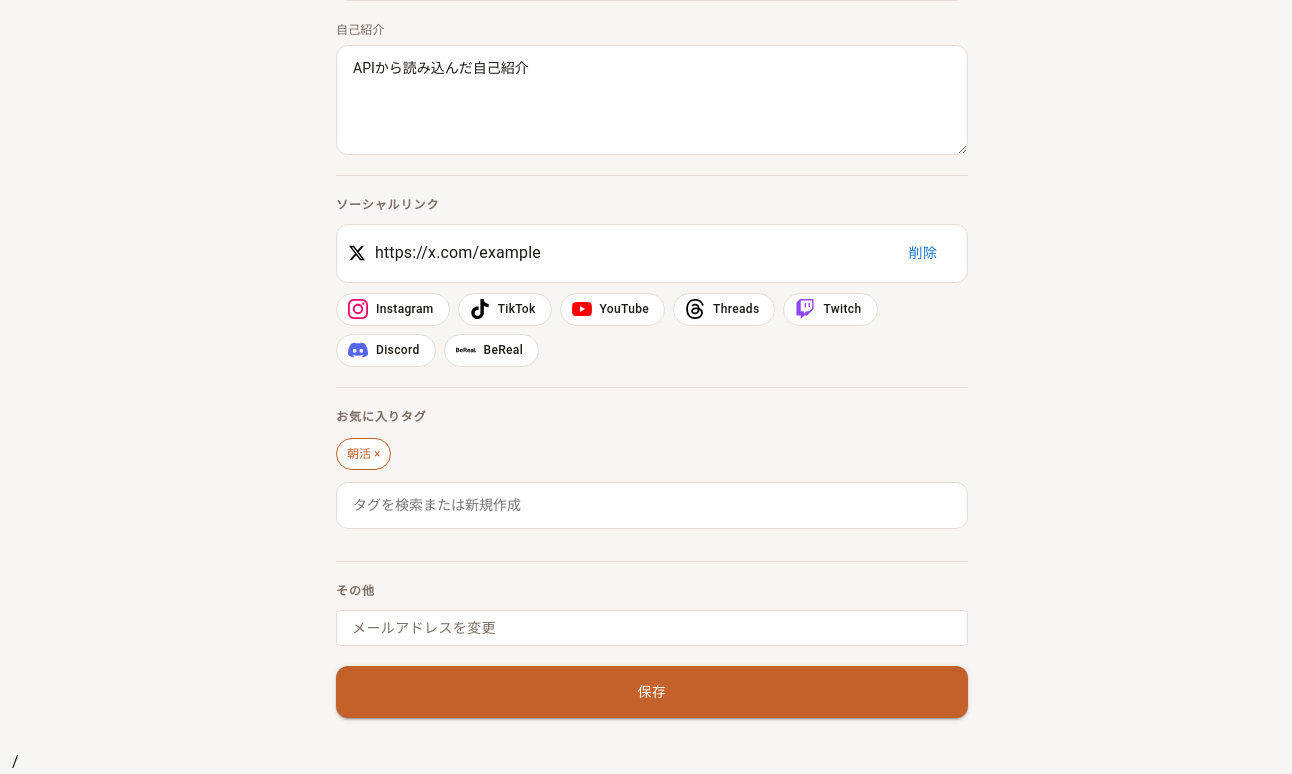
Test: ProfileEditPage › 保存が401なら認証状態を削除してログインへ遷移する
The image size is (1292, 774).
(page scrolled)
Click the button "保存" at (652, 692), box [336,666,968,718]
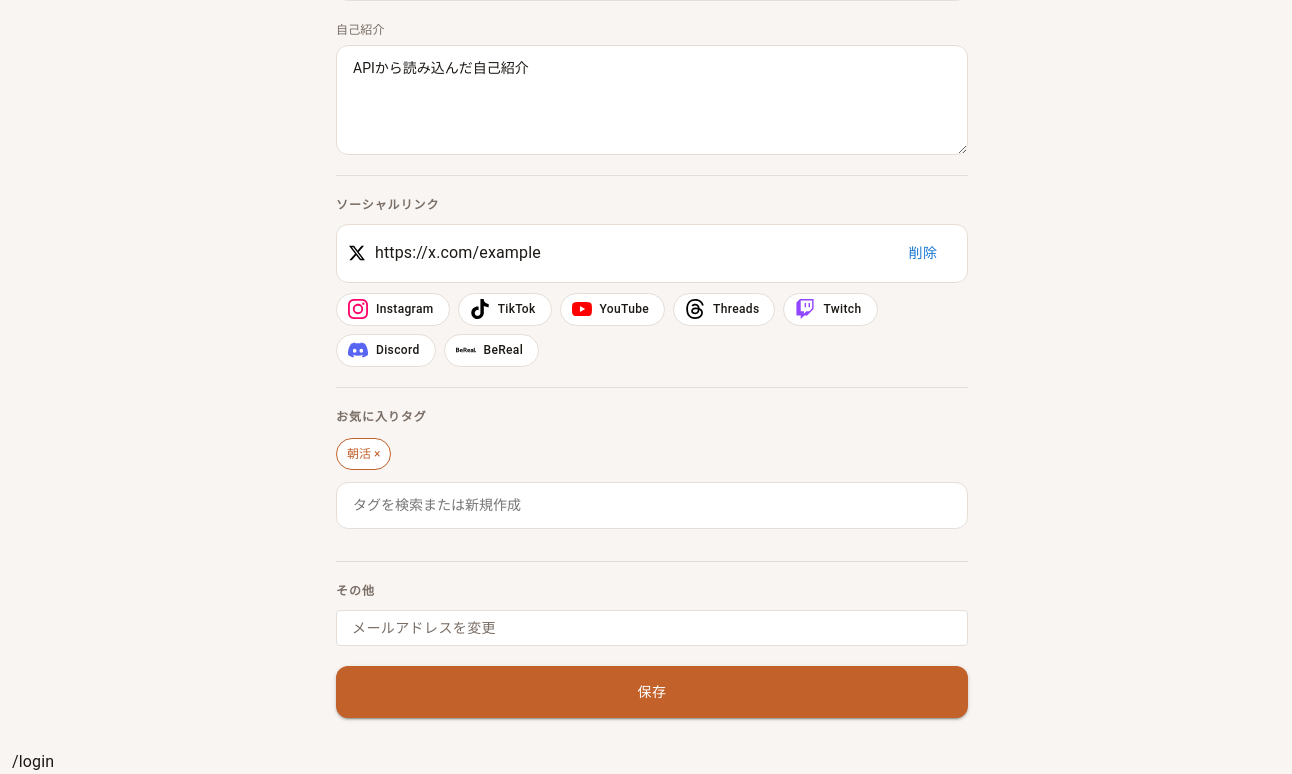
expect the text "/login" is shown: met, box [12,752,54,771]
